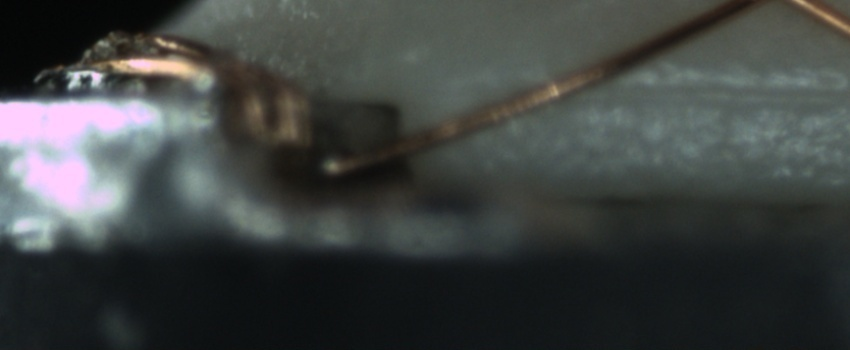CL: (730, 0, 824, 9)
DL: (584, 62, 846, 118)
TE: (88, 26, 317, 175)
